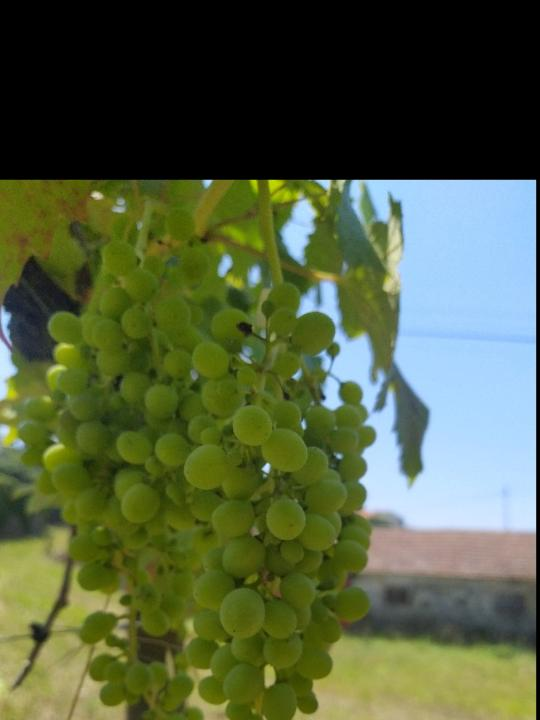grape: (16, 208, 378, 720)
